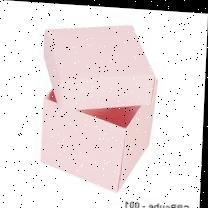cube: (31, 66, 160, 194)
